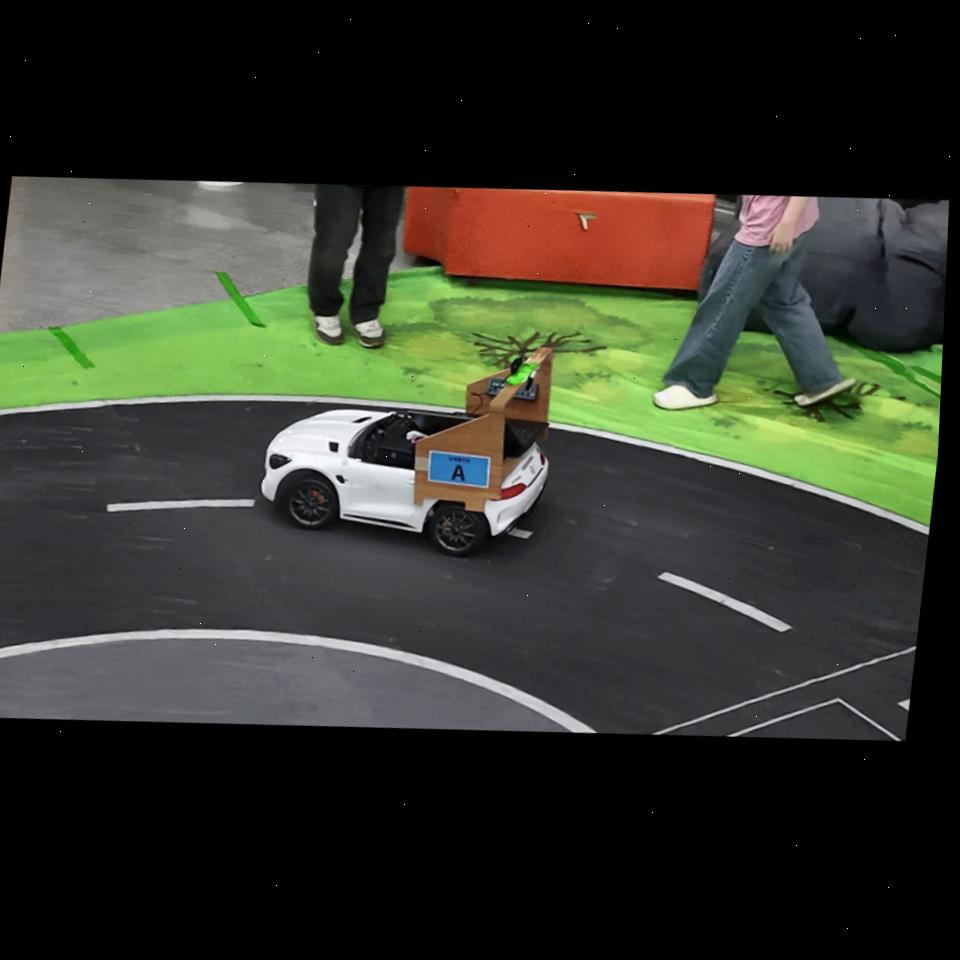broken_line: (658, 571, 791, 632), (107, 499, 255, 512), (508, 528, 532, 539), (899, 699, 910, 711)
